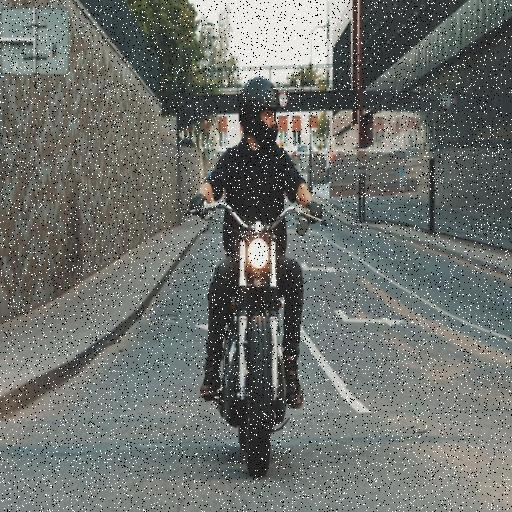Helmet: (239, 77, 278, 147)
Motor: (186, 201, 327, 475)
